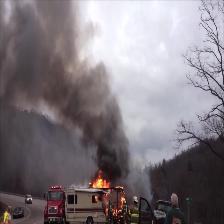fire: (87, 176, 110, 189)
smoke: (8, 1, 85, 90), (74, 101, 124, 162)
